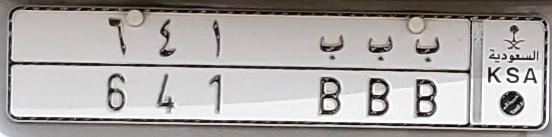1: (204, 19, 227, 116)
4: (154, 17, 178, 115)
6: (106, 16, 130, 111)
B: (315, 34, 347, 119), (412, 36, 441, 119), (364, 36, 393, 118)
